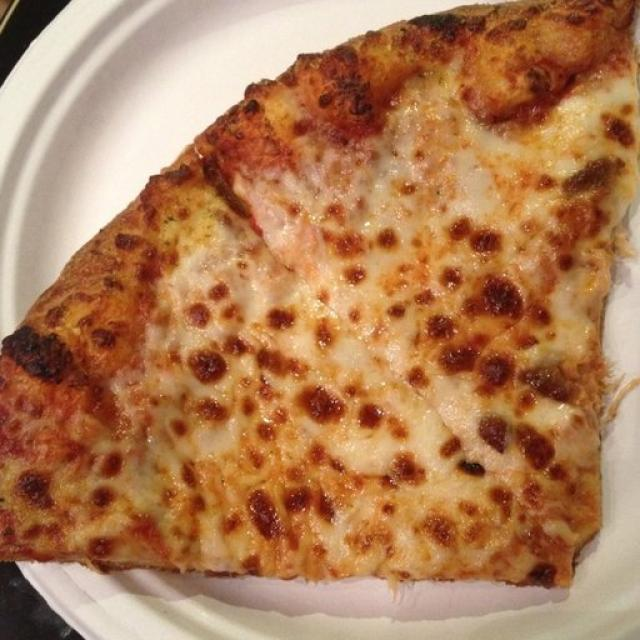Pizza: (0, 0, 640, 592)
